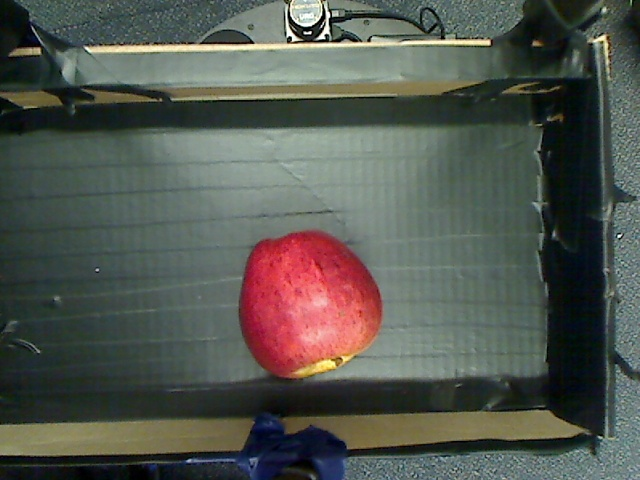apple: (224, 212, 406, 388)
